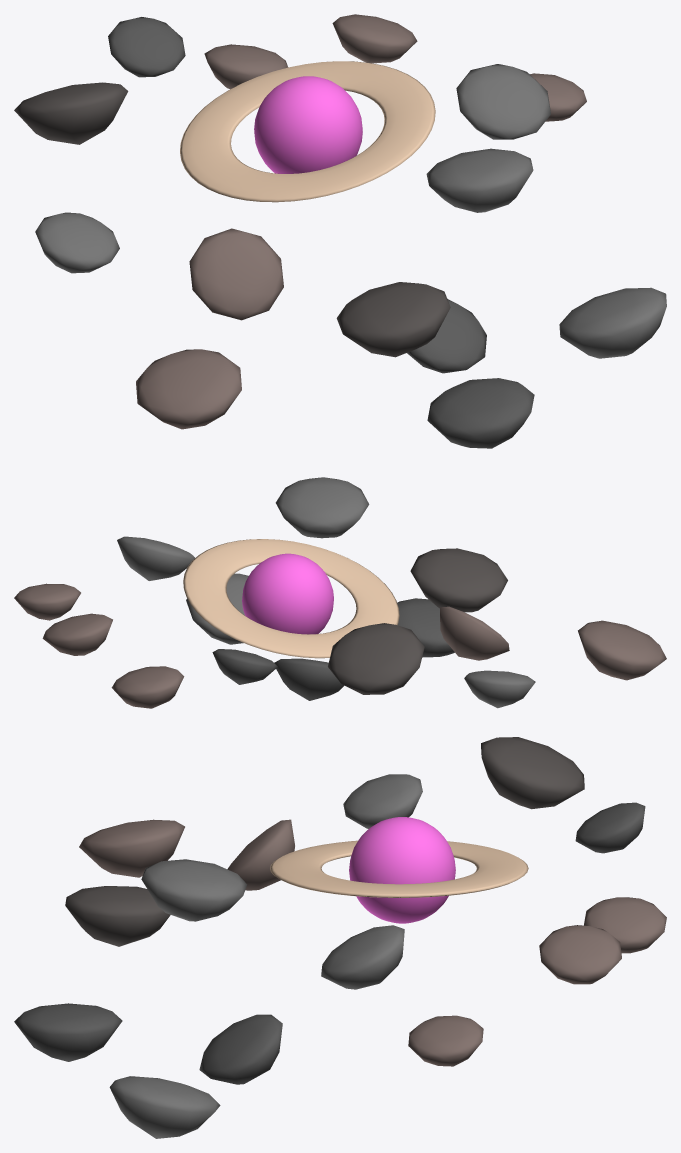
Rendered from orbit.glb.
The picture shows the model from 3 angles, top to bottom: view 1: azimuth 30°, elevation 25°; view 2: azimuth 150°, elevation 25°; view 3: azimuth 270°, elevation 25°; orthographic projection. The views are drawn at different scales.
Visible parts, largest first — view 1: Torus, Sphere, Icosphere.005, Icosphere.007, Icosphere.006, Icosphere.002, Icosphere.003, Icosphere.014, Icosphere.012, Icosphere.013, Icosphere.008, Icosphere.009 (+4 smaller); view 2: Torus, Sphere, Icosphere.013, Icosphere.006, Icosphere.012, Icosphere.007, Icosphere.005, Icosphere.014, Icosphere.001, Icosphere.011, Icosphere.004, Icosphere.002 (+4 smaller); view 3: Sphere, Torus, Icosphere.013, Icosphere.012, Icosphere.003, Icosphere.006, Icosphere.002, Icosphere.004, Icosphere.007, Icosphere.011, Icosphere.014, Icosphere.001 (+4 smaller).
Boxes of the visible parts, x1,y1,x2,y2 form: Torus: (180,61,435,202); Sphere: (254,76,362,173); Icosphere.005: (189,228,283,320); Icosphere.007: (136,349,241,429); Icosphere.006: (336,282,450,357); Icosphere.002: (427,378,534,448); Icosphere.003: (559,287,666,358); Icosphere.014: (456,64,550,139); Icosphere.012: (426,148,533,212); Icosphere.013: (14,82,128,144); Icosphere.008: (35,212,119,273); Icosphere.009: (108,17,185,77); Torus: (183,539,399,658); Sphere: (242,553,333,634); Icosphere.013: (328,623,424,694); Icosphere.006: (410,548,507,612); Icosphere.012: (275,477,369,538); Icosphere.007: (578,620,666,680); Icosphere.005: (439,606,509,660); Icosphere.014: (117,536,194,580); Icosphere.001: (111,666,184,708); Icosphere.011: (42,613,112,655); Icosphere.004: (274,658,344,700); Icosphere.002: (397,598,454,657); Sphere: (349,817,455,923); Torus: (270,840,528,897); Icosphere.013: (481,737,584,809); Icosphere.012: (141,859,247,921); Icosphere.003: (109,1076,220,1138); Icosphere.006: (65,886,170,946); Icosphere.002: (14,1003,122,1061); Icosphere.004: (199,1014,282,1084); Icosphere.007: (79,819,184,877); Icosphere.011: (539,925,621,984); Icosphere.014: (321,925,404,989); Icosphere.001: (584,897,666,953).
Bounding box in the file's own units: 115 × 44 × 110.
